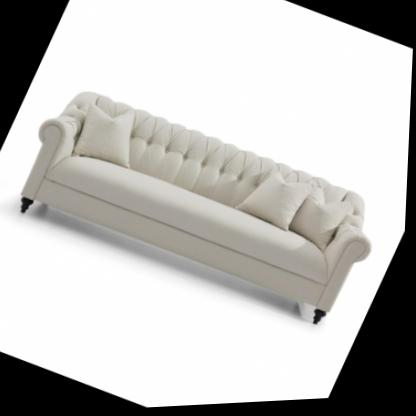Sofa: (0, 64, 398, 352)
